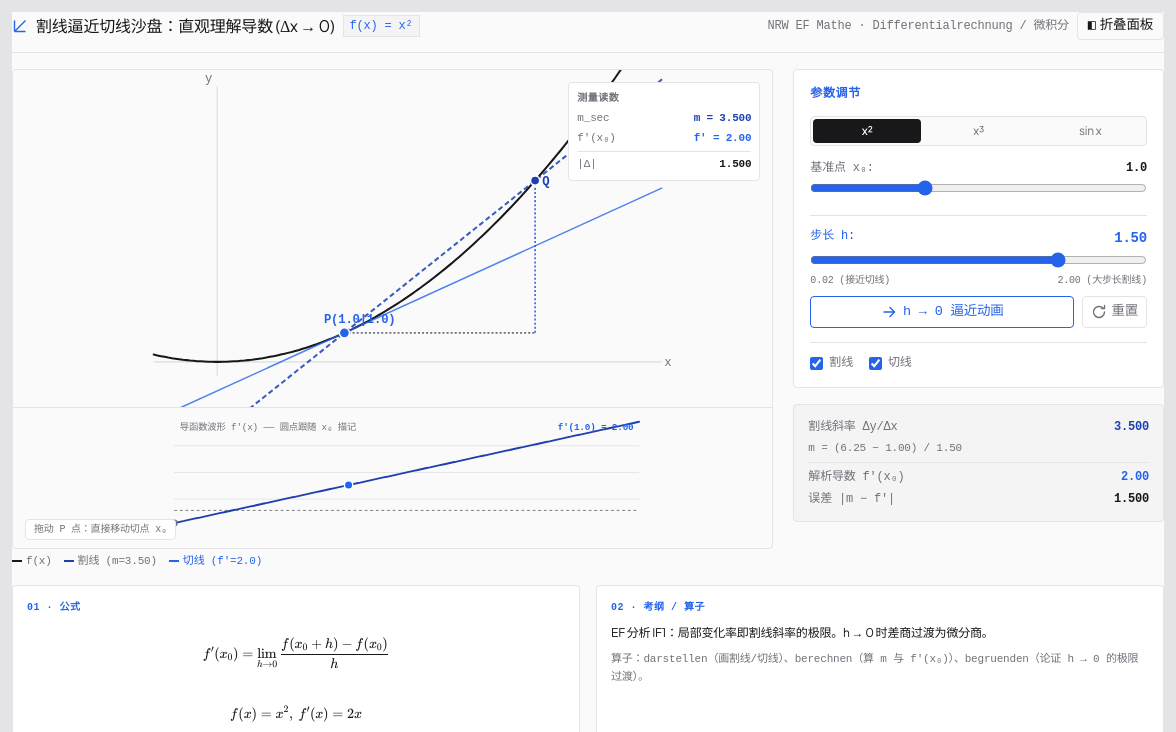
Test: Pädagogische Komponenten (Pedagogy UI Library) › TangentSlider › berechnet Differenzenquotienten dynamisch bei Veränderung von deltaX
The width and height of the screenshot is (1176, 732).
Expected: the text "3.500" is shown, x1=1114 y1=420 x2=1149 y2=436
Expected: the text "2.00" is shown, x1=1121 y1=469 x2=1149 y2=485
Set the slider named "步长 Δx / Intervallbreite Δx" to "0.50" at [896, 260], box x1=810 y1=252 x2=1147 y2=268
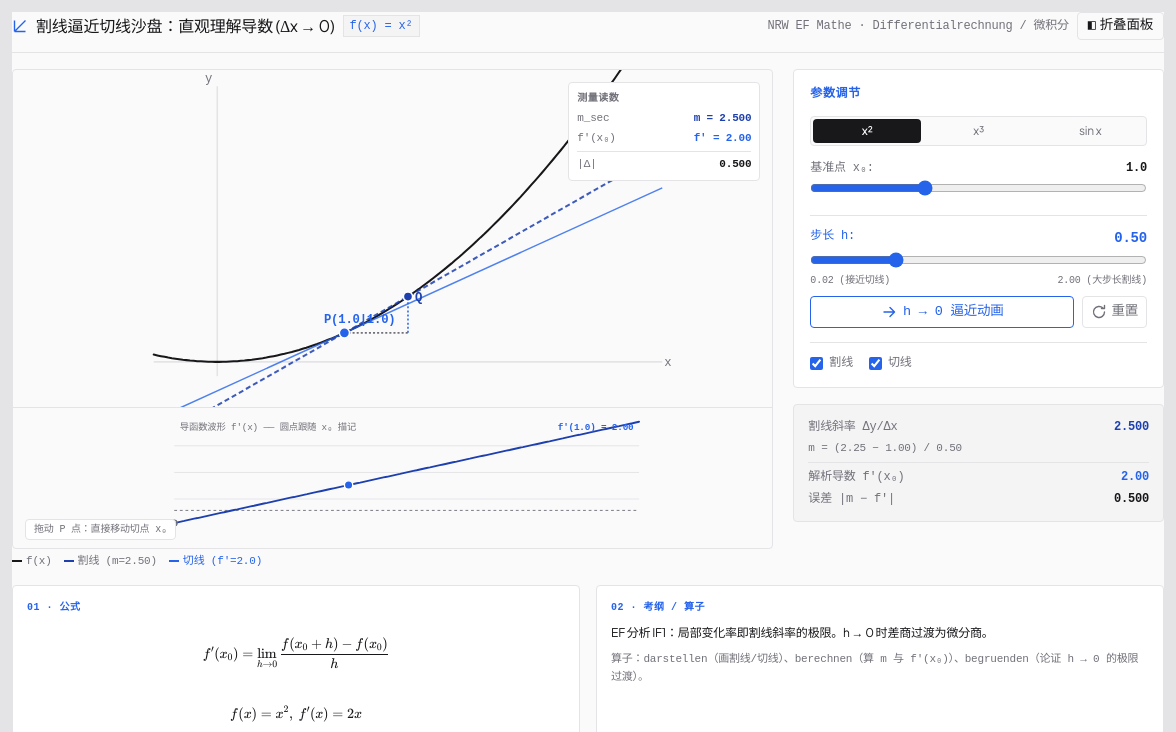
Result: the text "2.500" is shown at x1=1114 y1=420 x2=1149 y2=436
Result: the text "0.50" is shown at x1=1114 y1=228 x2=1147 y2=248
Set the slider named "步长 Δx / Intervallbreite Δx" to "0.02" at [818, 260], box x1=810 y1=252 x2=1147 y2=268
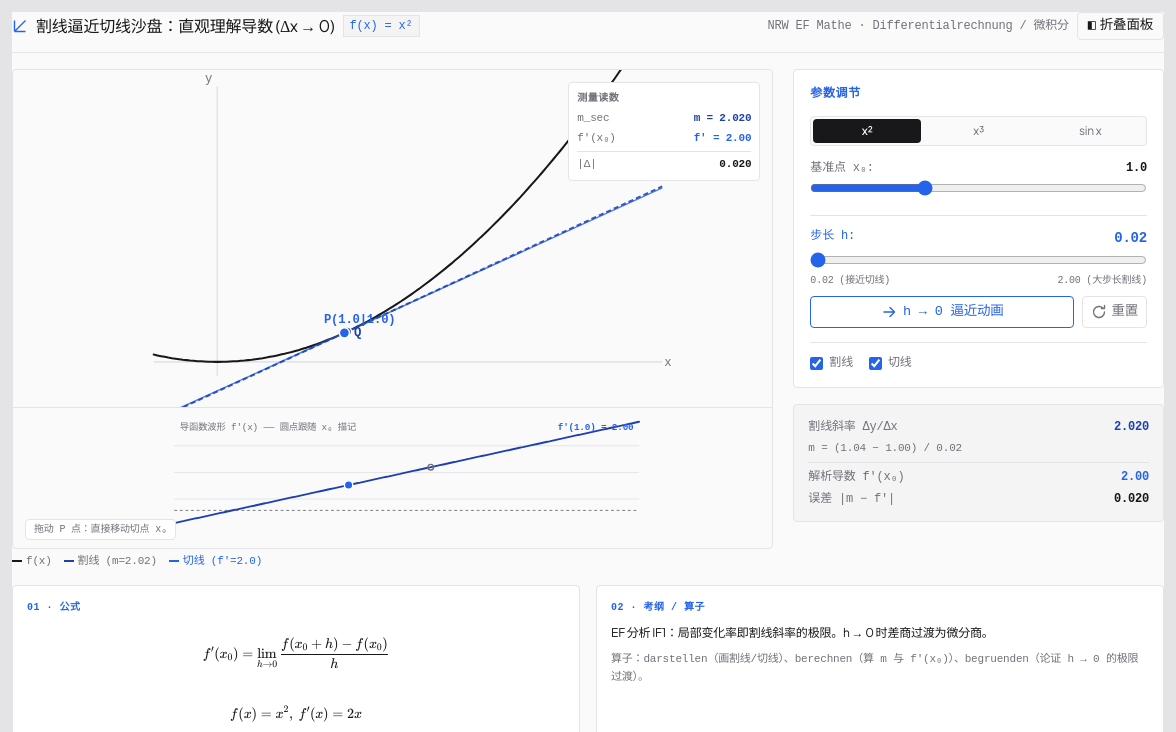
Expected: the text "2.00" is shown, x1=1121 y1=469 x2=1149 y2=485
Result: the text "2.020" is shown at x1=1114 y1=420 x2=1149 y2=436
